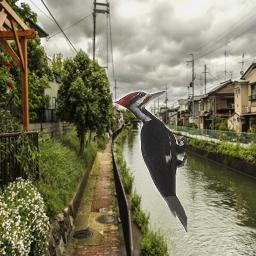Woodpecker: (112, 90, 187, 236)
